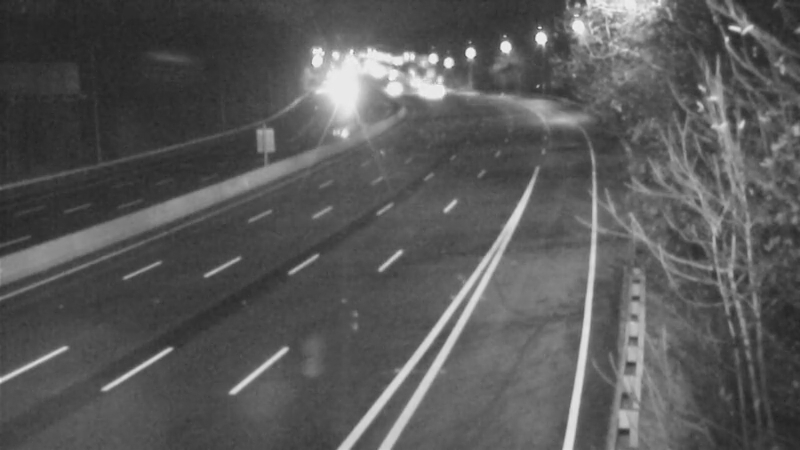vehicle: (395, 58, 445, 108), (371, 62, 421, 112), (412, 68, 462, 118), (314, 72, 364, 122)
